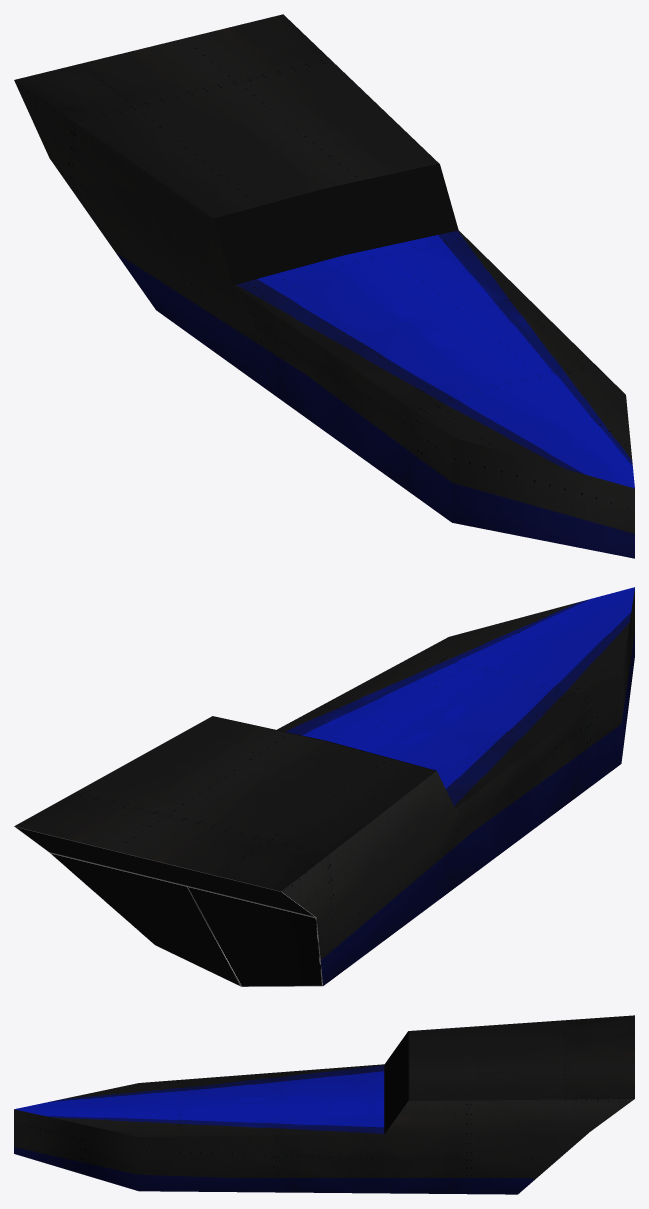
File: speederBoat02_BLUE.fbx
3 views of the same model, one above another, from view 1: azimuth 30°, elevation 25°; view 2: azimuth 150°, elevation 25°; view 3: azimuth 270°, elevation 25° (orthographic). The views are drawn at different scales.
Visible parts, largest first — view 1: pCube1; view 2: pCube1; view 3: pCube1.
Boxes of the visible parts, bbox=[...] form: pCube1: bbox=[14, 14, 634, 558]; pCube1: bbox=[14, 587, 634, 986]; pCube1: bbox=[14, 1015, 634, 1194].
Size of the model in its own units: 12.45 by 8.64 by 39.11.
Materials: 1 (1 with a texture image).
